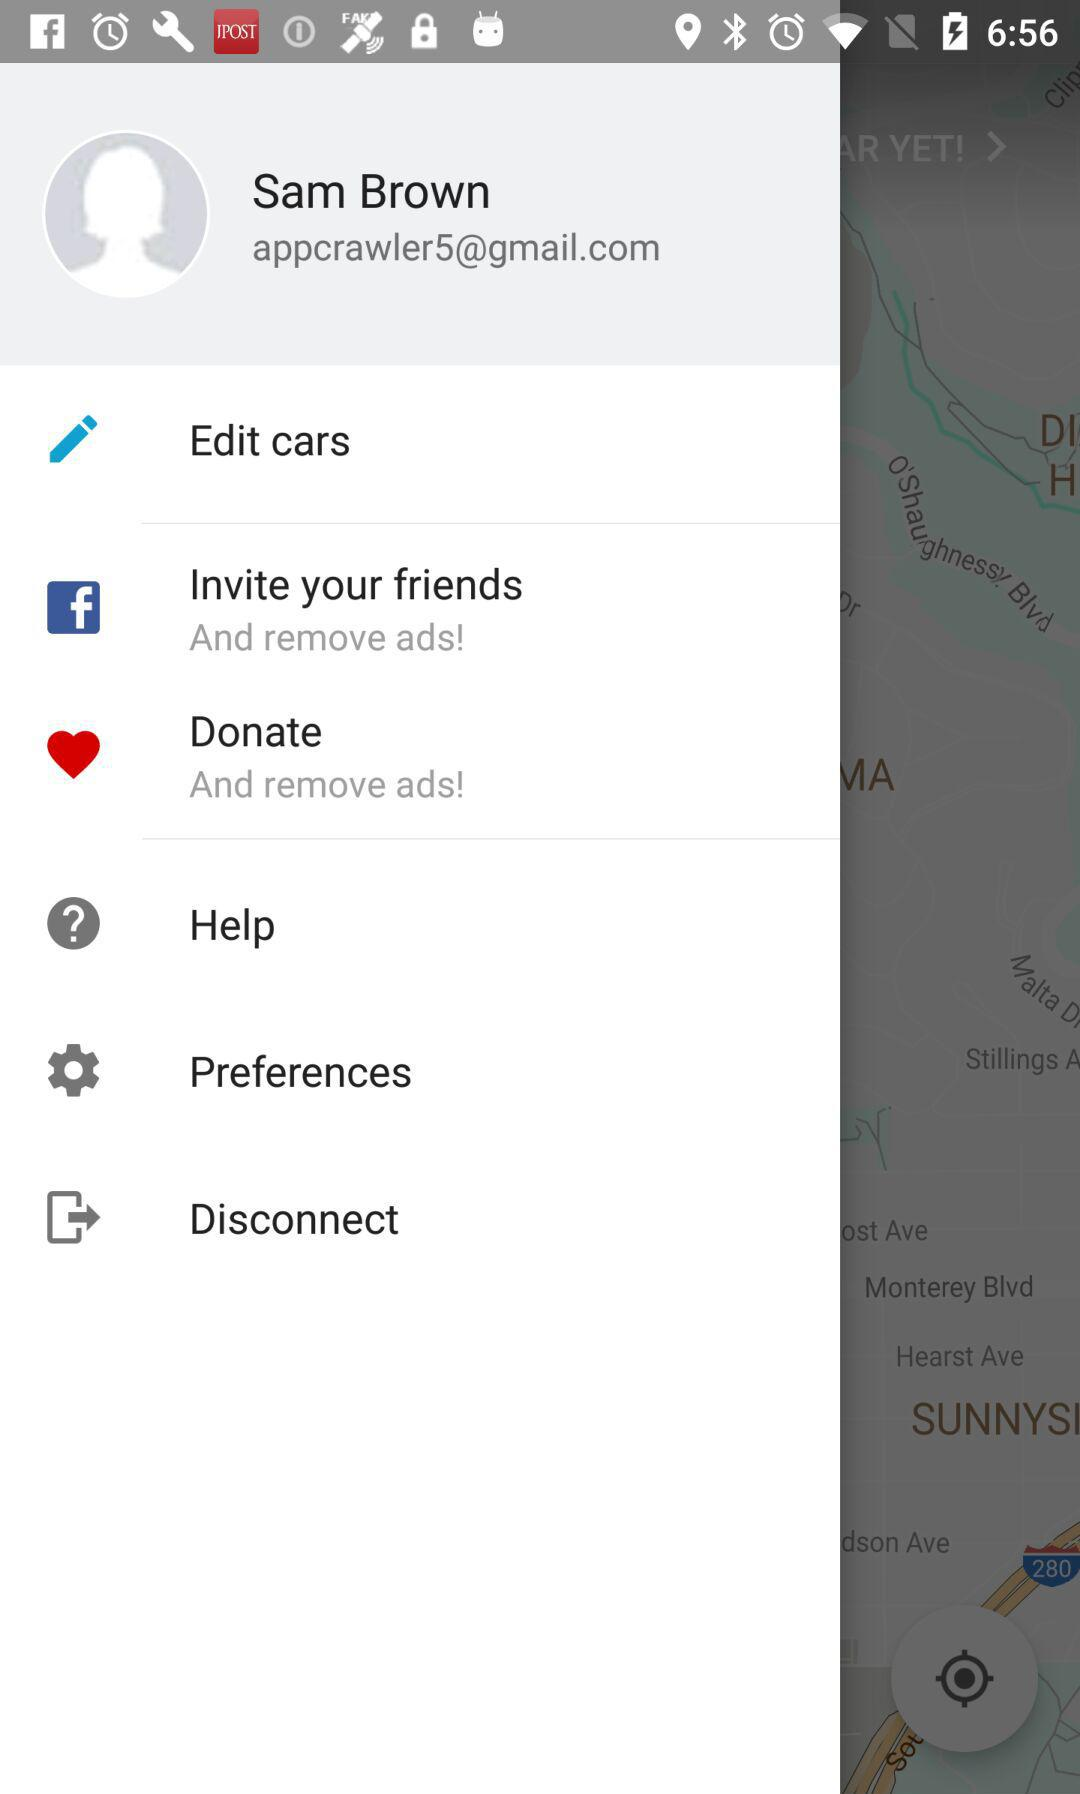Drawer: (1, 65, 840, 1794)
Icon: (41, 129, 214, 300), (47, 1189, 102, 1246), (47, 896, 102, 952), (47, 1043, 102, 1098), (47, 580, 102, 636), (47, 729, 102, 780), (47, 413, 99, 465)
Text: (252, 229, 664, 273), (190, 564, 523, 610), (188, 768, 468, 803), (254, 170, 492, 211), (187, 620, 465, 654), (191, 1053, 413, 1090), (190, 1201, 401, 1237), (190, 422, 351, 460), (191, 712, 324, 750), (191, 906, 277, 951)
UpperTaskBar: (1, 1, 1080, 64)
